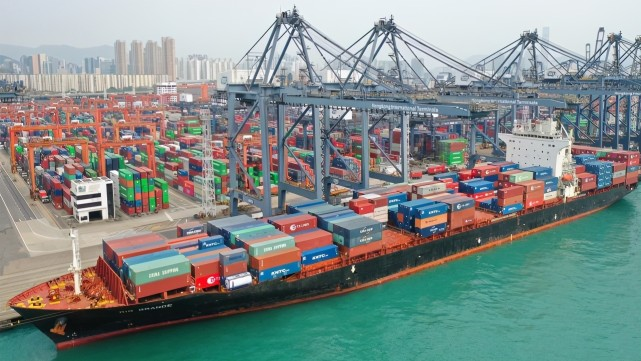Cargoship: (6, 99, 641, 349)
